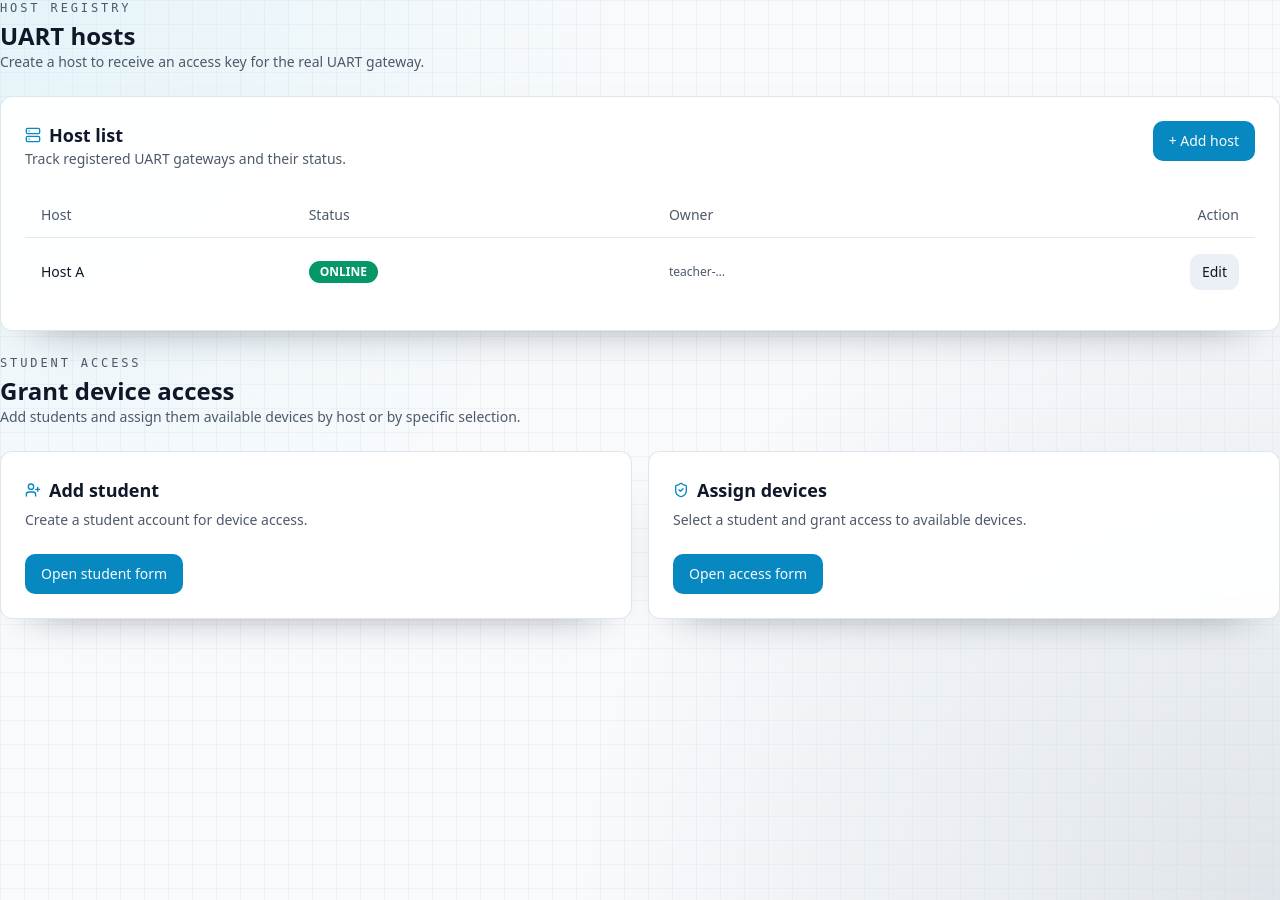
Test case: HostsPage › creates host and shows issued key
Expected: the text "Host A" is shown, [25,237,293,306]
Click the button "+ Add host" at (1204, 141), box [1153,121,1255,161]
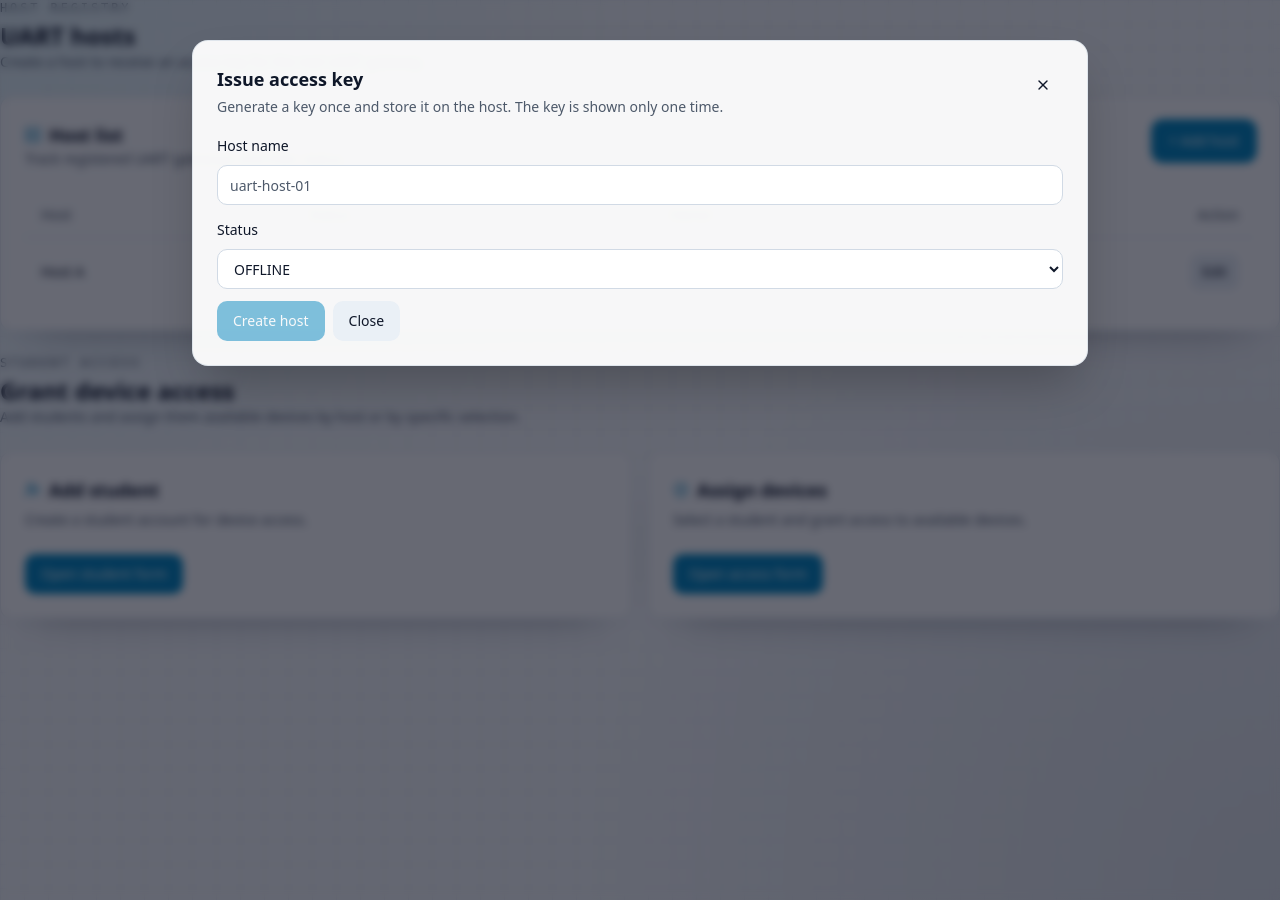
Type "Host B" into the field labelled "Host name" at (640, 185), box [217,165,1063,205]
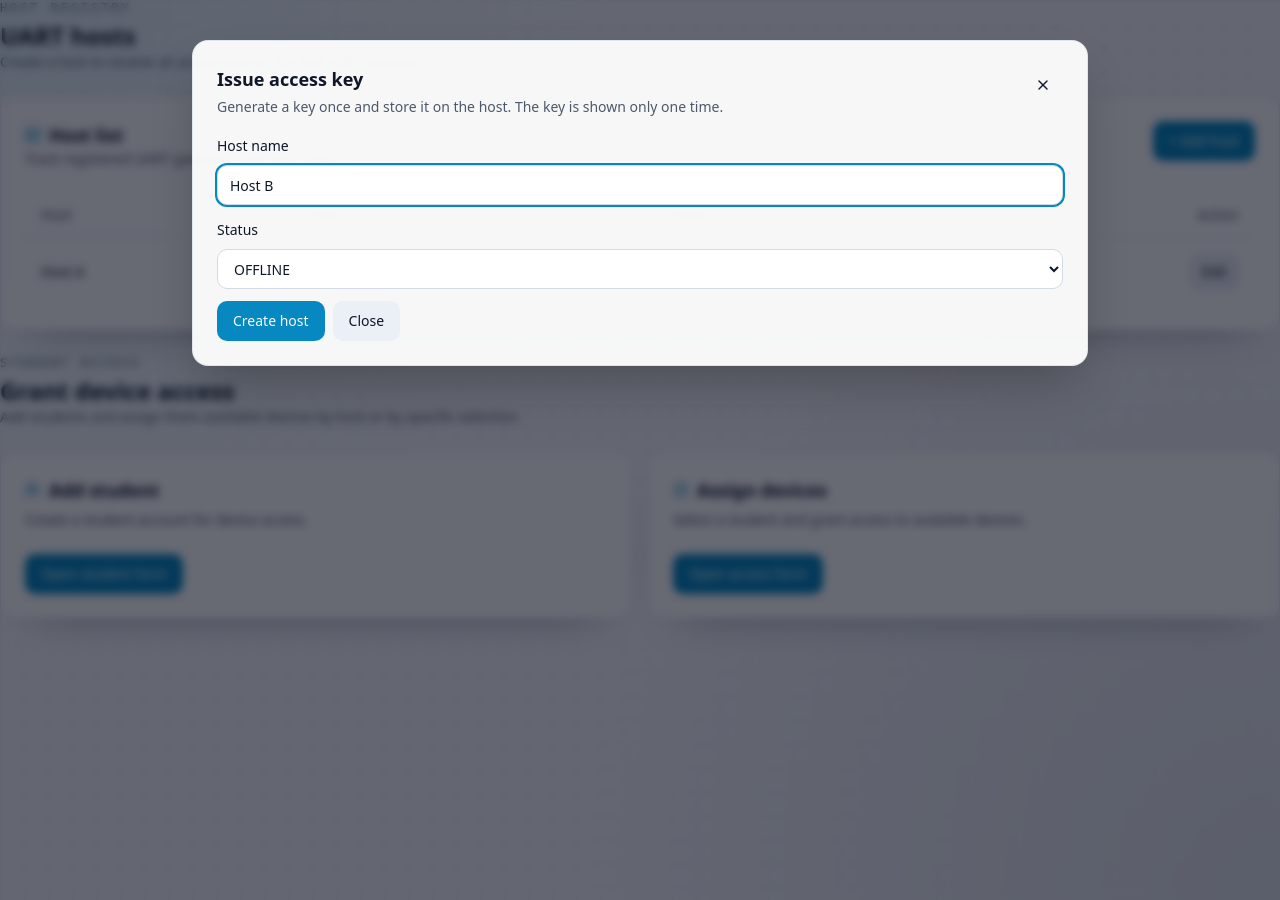
Click the button "Create host" at (271, 321), box [217,301,325,341]
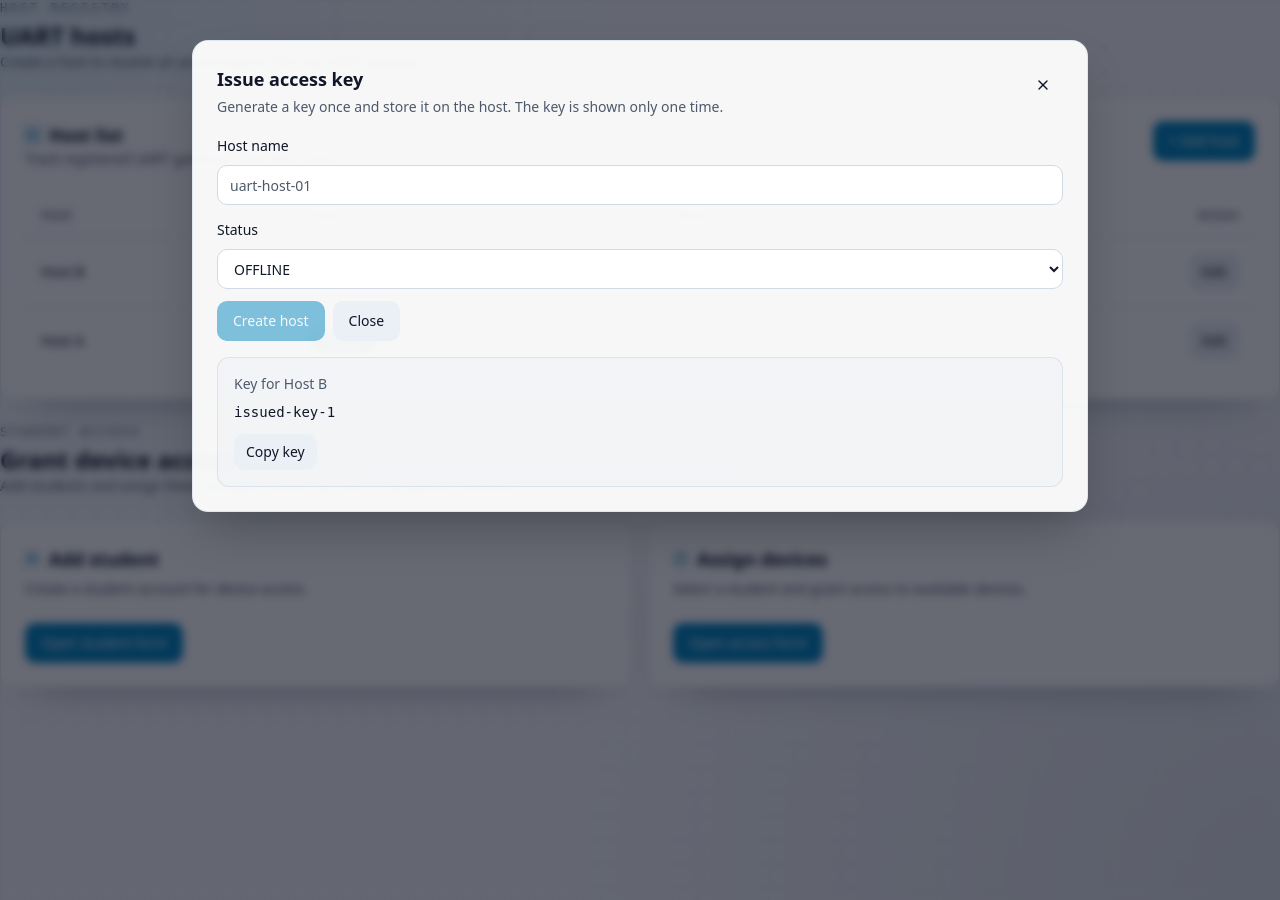
Expected: the text "issued-key-1" is shown, [234,404,335,420]
Expected: the button "Copy key" is shown, [234,434,317,470]
